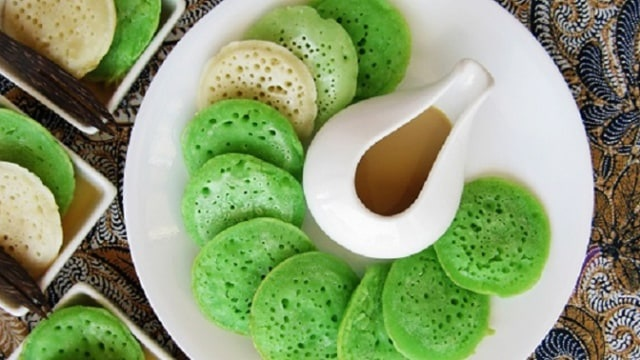srabi: (433, 171, 563, 308)
